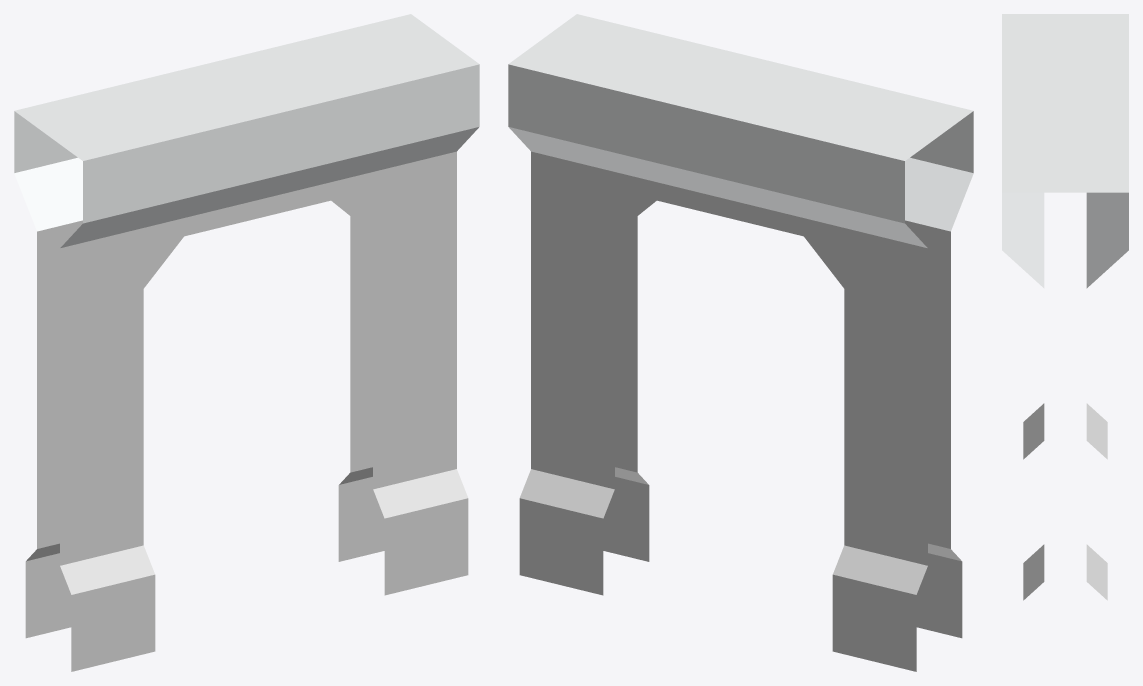
Rendered from door_single_small_b.fbx.
3 renders of one model, left to right at view 1: azimuth 30°, elevation 25°; view 2: azimuth 150°, elevation 25°; view 3: azimuth 270°, elevation 25°, orthographic. The views are drawn at different scales.
Visible parts, largest first — view 1: door_single_small_b; view 2: door_single_small_b; view 3: door_single_small_b.
Part boxes in pixels (x1,y1,x2,y2): door_single_small_b: (14, 14, 479, 671); door_single_small_b: (508, 14, 973, 671); door_single_small_b: (1002, 14, 1128, 600).
Size of the model in its own units: 2 by 2.5 by 0.6.
